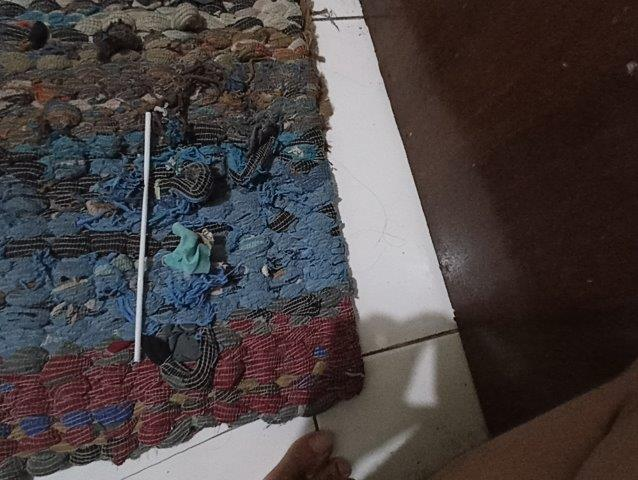sedotan: (133, 113, 151, 361)
